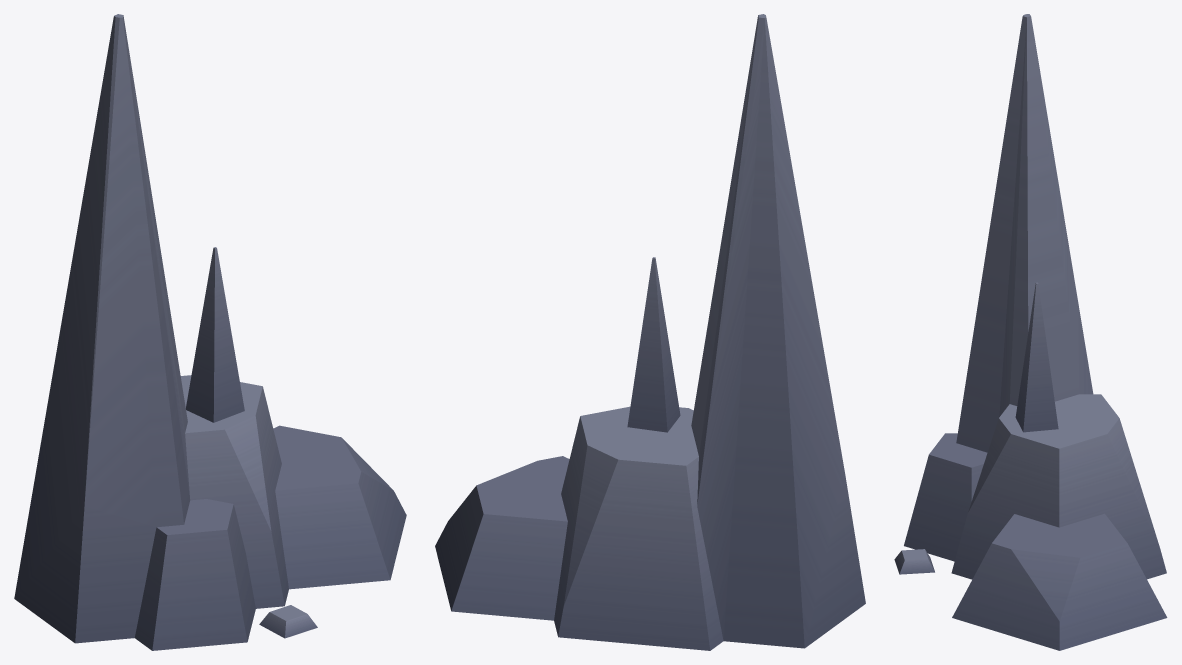
File: pedra pontuda 3 cinza.glb
3 views of the same model, side by side, from view 1: azimuth 30°, elevation 25°; view 2: azimuth 150°, elevation 25°; view 3: azimuth 270°, elevation 25° (orthographic). The views are drawn at different scales.
Parts seen in each view (by area): view 1: rock-c; view 2: rock-c; view 3: rock-c.
Boxes of the visible parts, x1,y1,x2,y2 form: rock-c: [14, 14, 406, 650]; rock-c: [435, 14, 865, 650]; rock-c: [894, 14, 1167, 650].
Bounding box in the file's own units: 0.7837 × 1.16 × 0.5659.
1 material, 1 textured.
